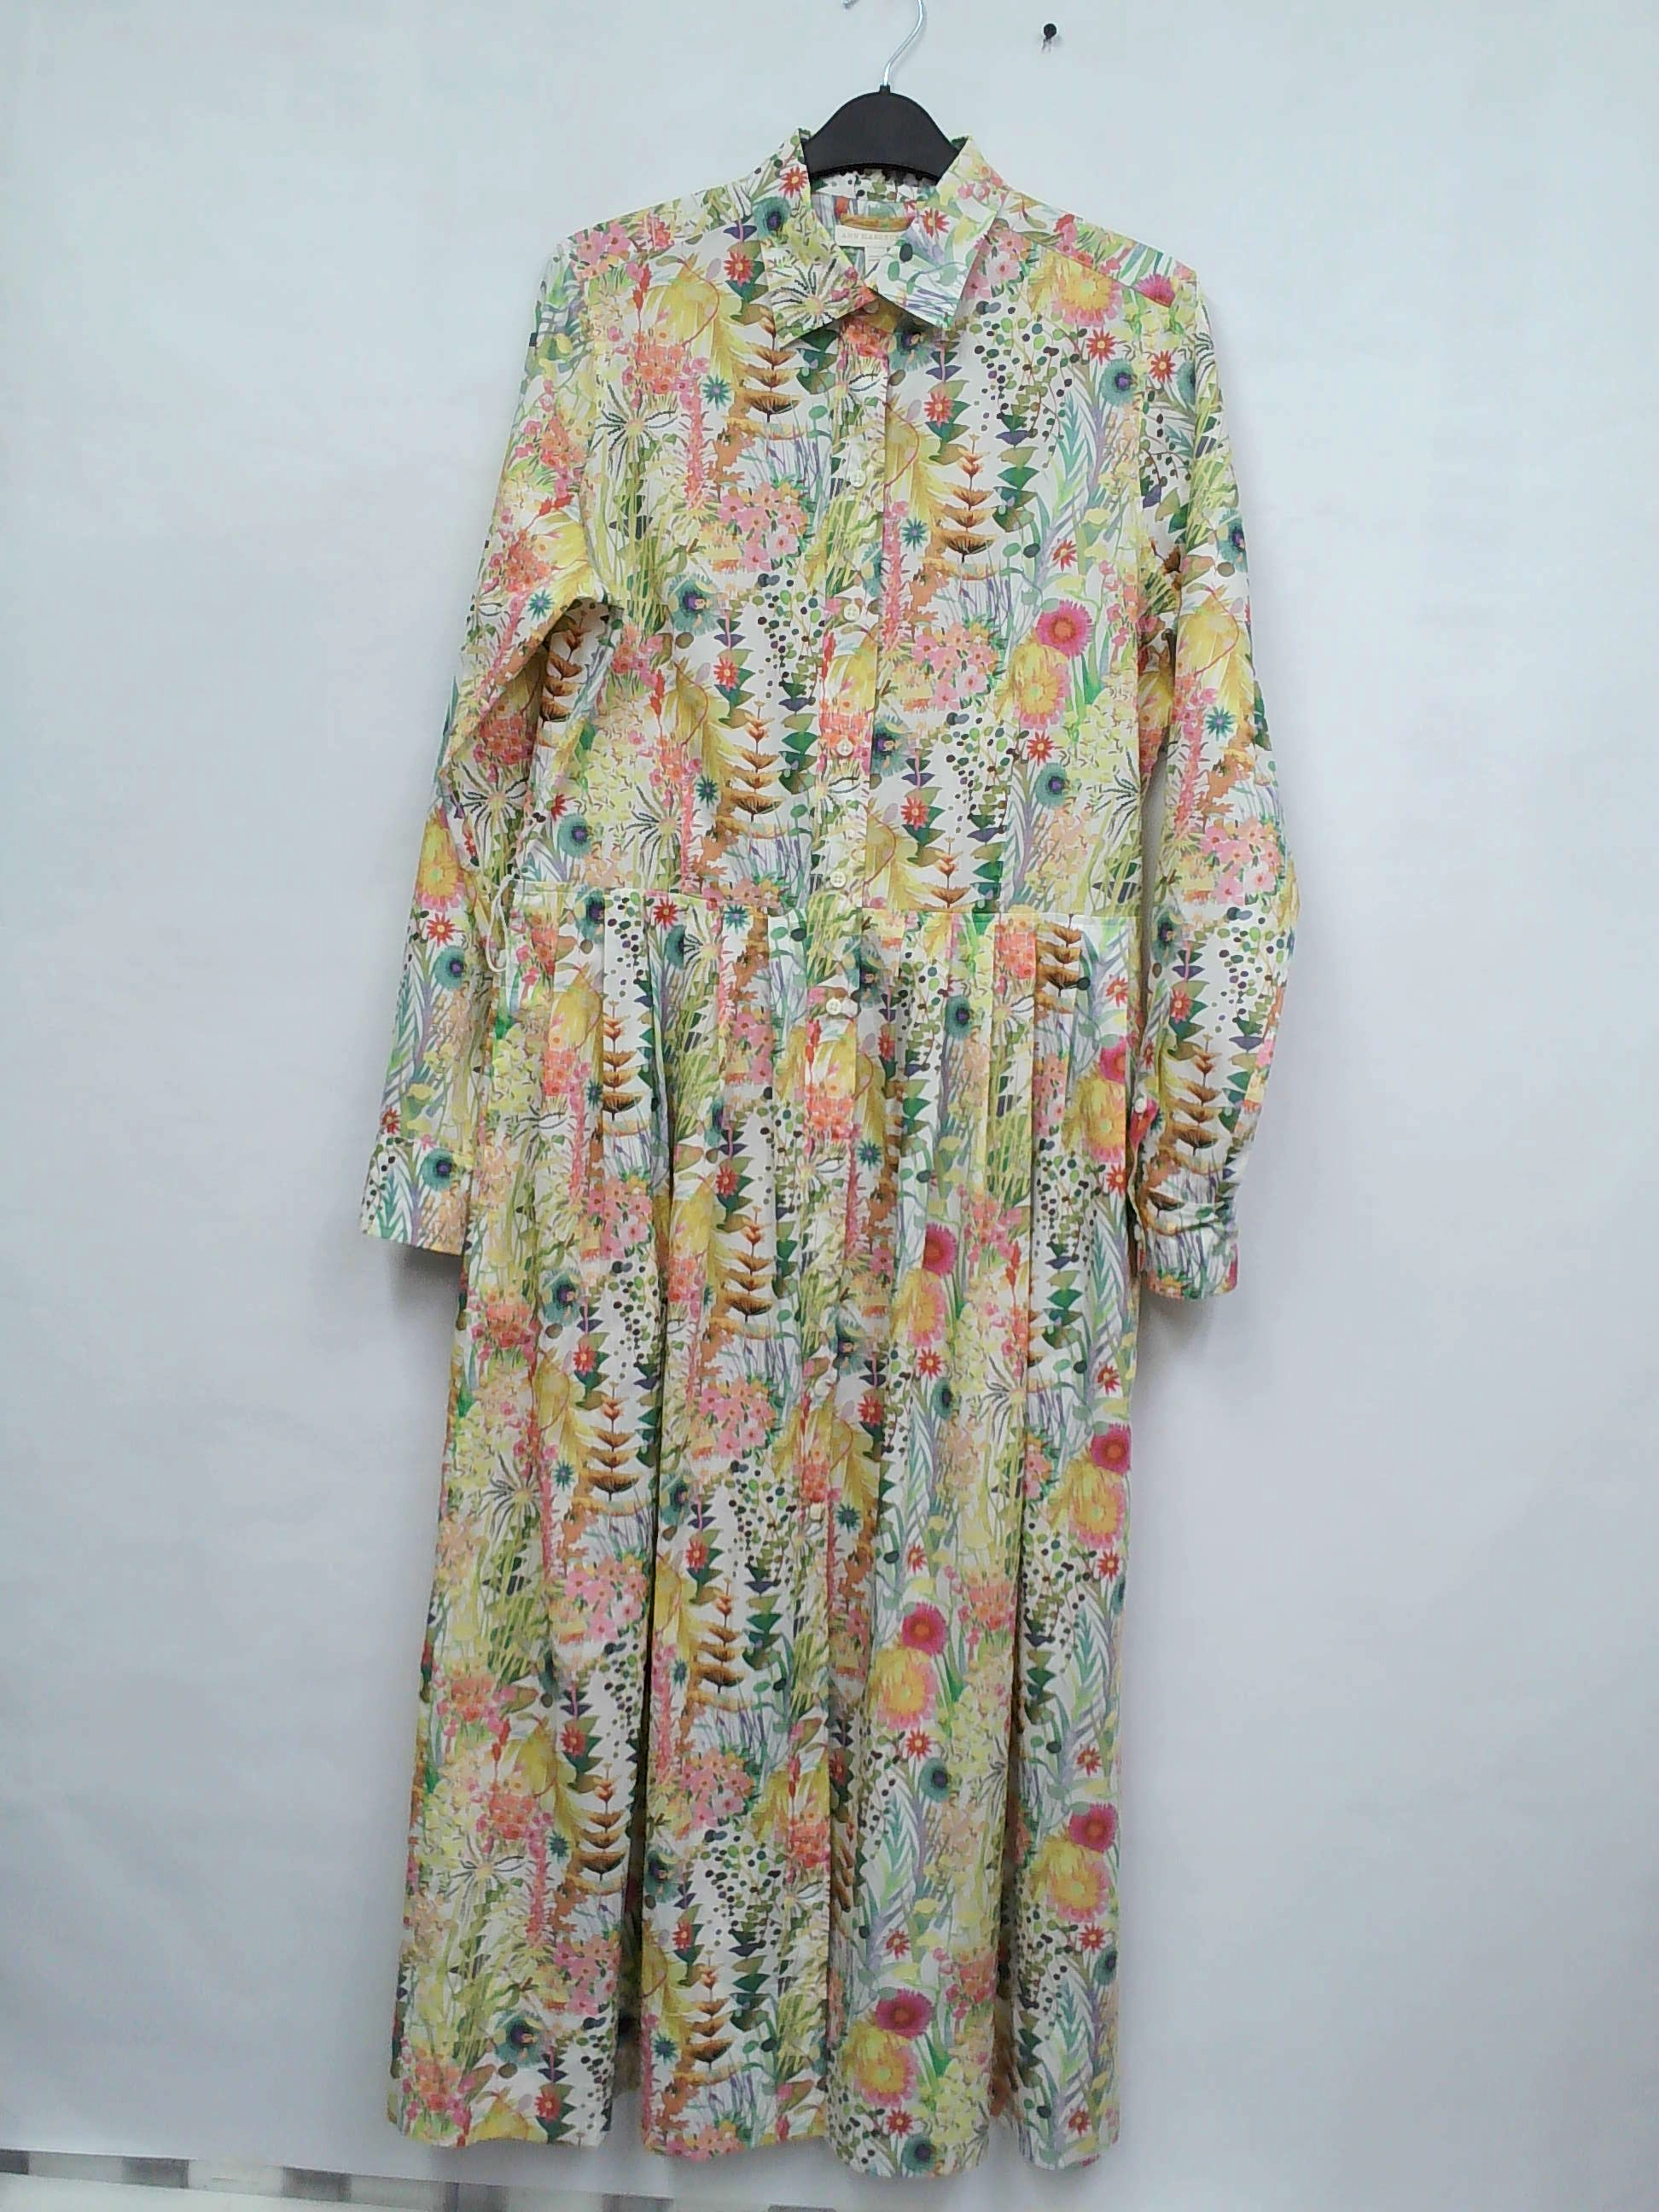structural: (498, 587, 643, 878)
